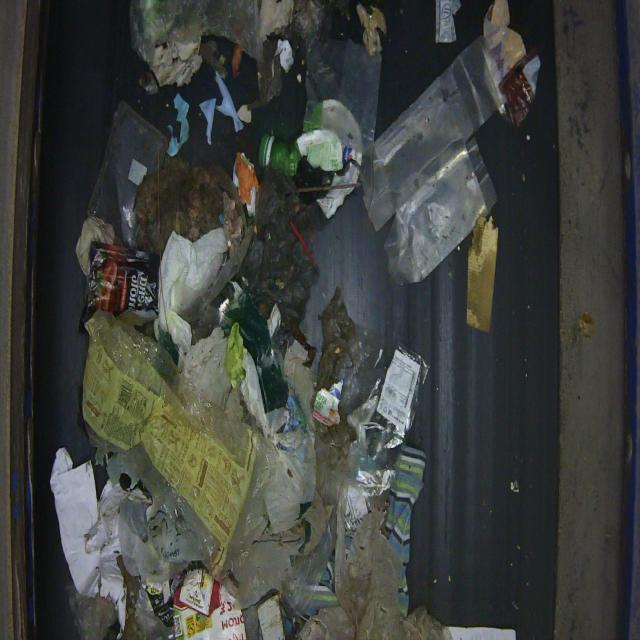other-trash: (49, 0, 539, 638)
